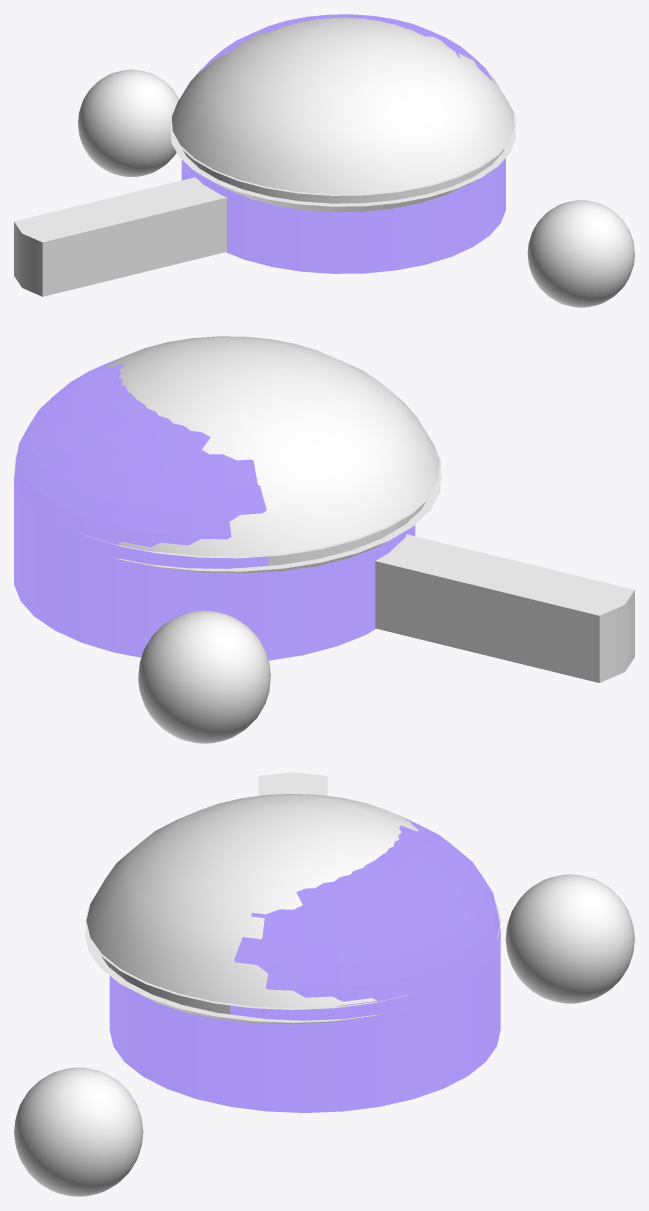
Rendered from observatory test scene_v2.glb.
3 renders of one model, top to bottom at view 1: azimuth 30°, elevation 25°; view 2: azimuth 150°, elevation 25°; view 3: azimuth 270°, elevation 25°, orthographic. The views are drawn at different scales.
Parts seen in each view (by area): view 1: window, dome, Sphere, floor, shelves; view 2: Sphere, window, dome, shelves; view 3: Sphere, window, shelves, floor, dome.
Part boxes in pixels (bbox=[...]): window: bbox=[171, 17, 514, 194]; dome: bbox=[14, 98, 515, 296]; Sphere: bbox=[181, 14, 505, 273]; floor: bbox=[527, 200, 634, 307]; shelves: bbox=[78, 69, 179, 176]; Sphere: bbox=[14, 359, 415, 660]; window: bbox=[106, 336, 439, 556]; dome: bbox=[14, 442, 634, 682]; shelves: bbox=[138, 610, 270, 743]; Sphere: bbox=[109, 817, 500, 1112]; window: bbox=[86, 794, 499, 1007]; shelves: bbox=[505, 874, 634, 1003]; floor: bbox=[14, 1067, 143, 1196]; dome: bbox=[85, 772, 501, 1024].
Bounding box in the file's own units: 39.03 × 16.89 × 33.78.
